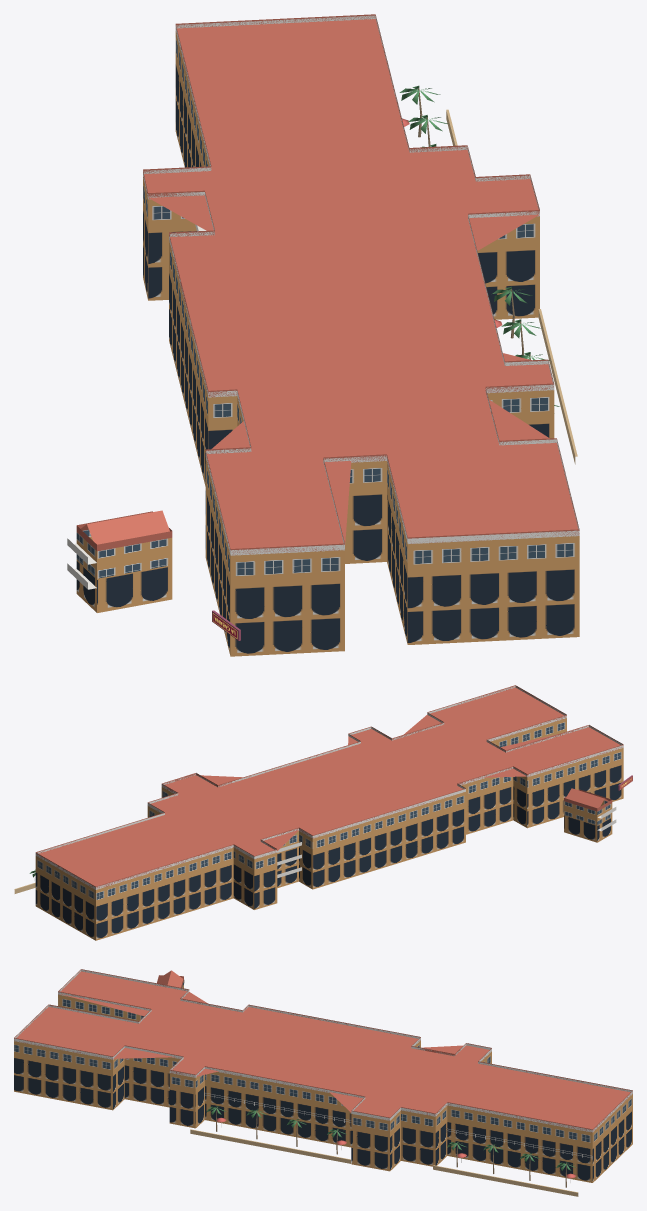
The model's file is m_lacabana.glb.
The picture shows the model from 3 angles, top to bottom: view 1: azimuth 30°, elevation 25°; view 2: azimuth 150°, elevation 25°; view 3: azimuth 270°, elevation 25°; orthographic projection. The views are drawn at different scales.
Parts seen in each view (by area): view 1: m_lacabana_lod0; view 2: m_lacabana_lod0; view 3: m_lacabana_lod0.
Part boxes in pixels (<box>): m_lacabana_lod0: <box>67,14,579,656</box>; m_lacabana_lod0: <box>14,685,632,940</box>; m_lacabana_lod0: <box>14,969,632,1196</box>.
Size of what is drawn, in the model's own units: 104 by 13.73 by 143.
10 materials, 3 textured.
